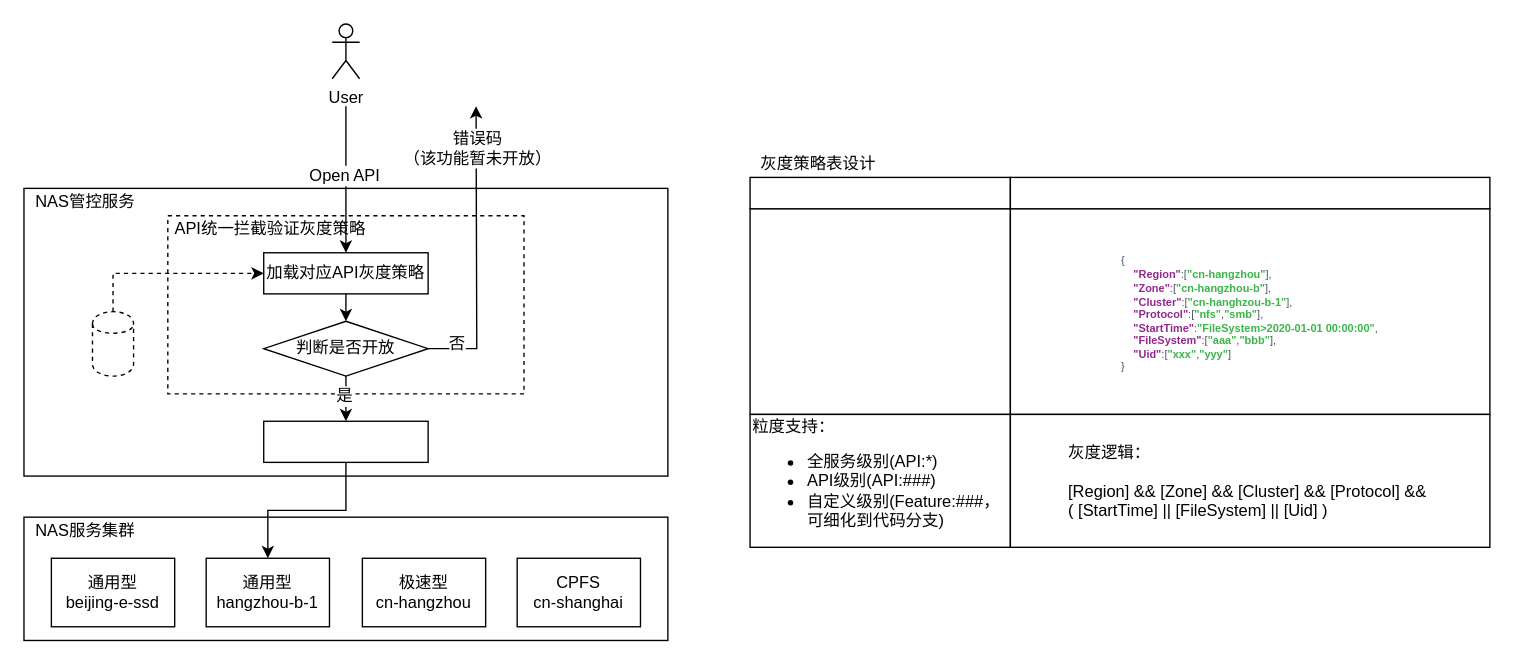
This 1514x664 diagram has some shape labels left out. Each missing label, with the centre of its shape:
"API:CreateTieringJob ---------------------------- Feature:Encrypt" goes at (879,311).
"具体业务实现" goes at (345,441).
"灰度策略" goes at (1249,192).
"灰度粒度" goes at (879,192).
"策略库" goes at (112,343).
